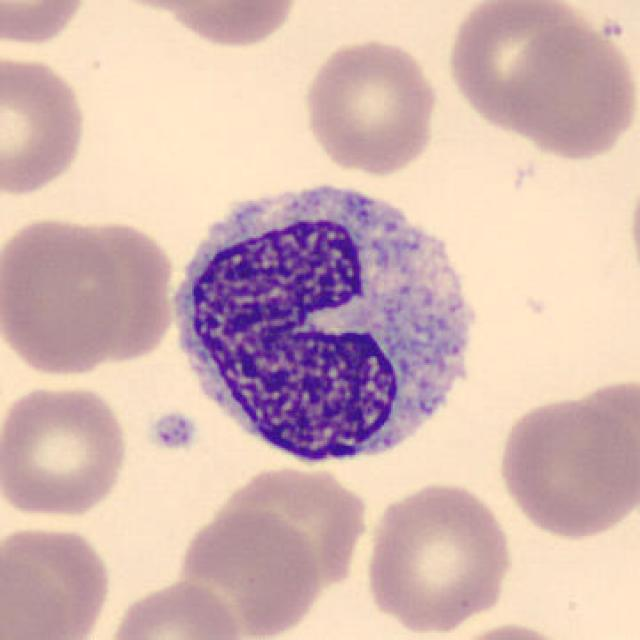Monocyte: (155, 163, 496, 482)
Platelets: (148, 407, 198, 455)
RBC: (361, 476, 517, 637), (492, 390, 636, 543), (0, 211, 128, 381), (298, 36, 442, 176), (500, 18, 638, 164), (174, 506, 324, 638), (444, 0, 590, 134), (0, 377, 132, 522), (58, 216, 176, 368), (0, 520, 116, 640), (0, 49, 91, 200), (101, 576, 247, 640), (151, 0, 298, 49), (1, 553, 71, 640), (0, 0, 92, 49), (436, 619, 583, 640), (626, 157, 640, 300)
